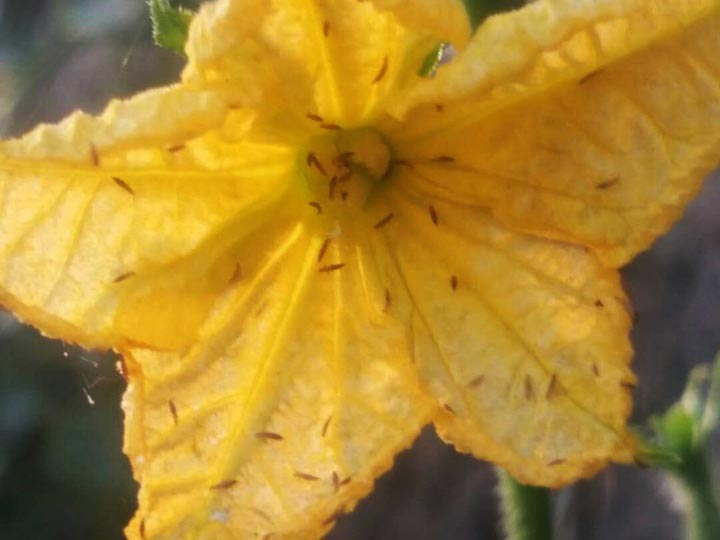thrips: (576, 63, 609, 85), (305, 150, 328, 177), (210, 473, 239, 491), (371, 55, 389, 83), (593, 172, 622, 189), (253, 430, 289, 443), (544, 369, 558, 402), (372, 208, 395, 228), (331, 468, 351, 491), (314, 235, 330, 263), (168, 397, 182, 427), (112, 267, 138, 283), (111, 175, 136, 191), (325, 173, 338, 203), (427, 152, 459, 164), (425, 201, 439, 225), (293, 471, 323, 482), (546, 455, 569, 467), (87, 145, 100, 166), (318, 263, 346, 272), (167, 141, 188, 153), (382, 285, 390, 315), (320, 16, 332, 36), (139, 516, 149, 540), (305, 110, 324, 122), (319, 122, 347, 130), (590, 353, 599, 376), (449, 272, 459, 291)
